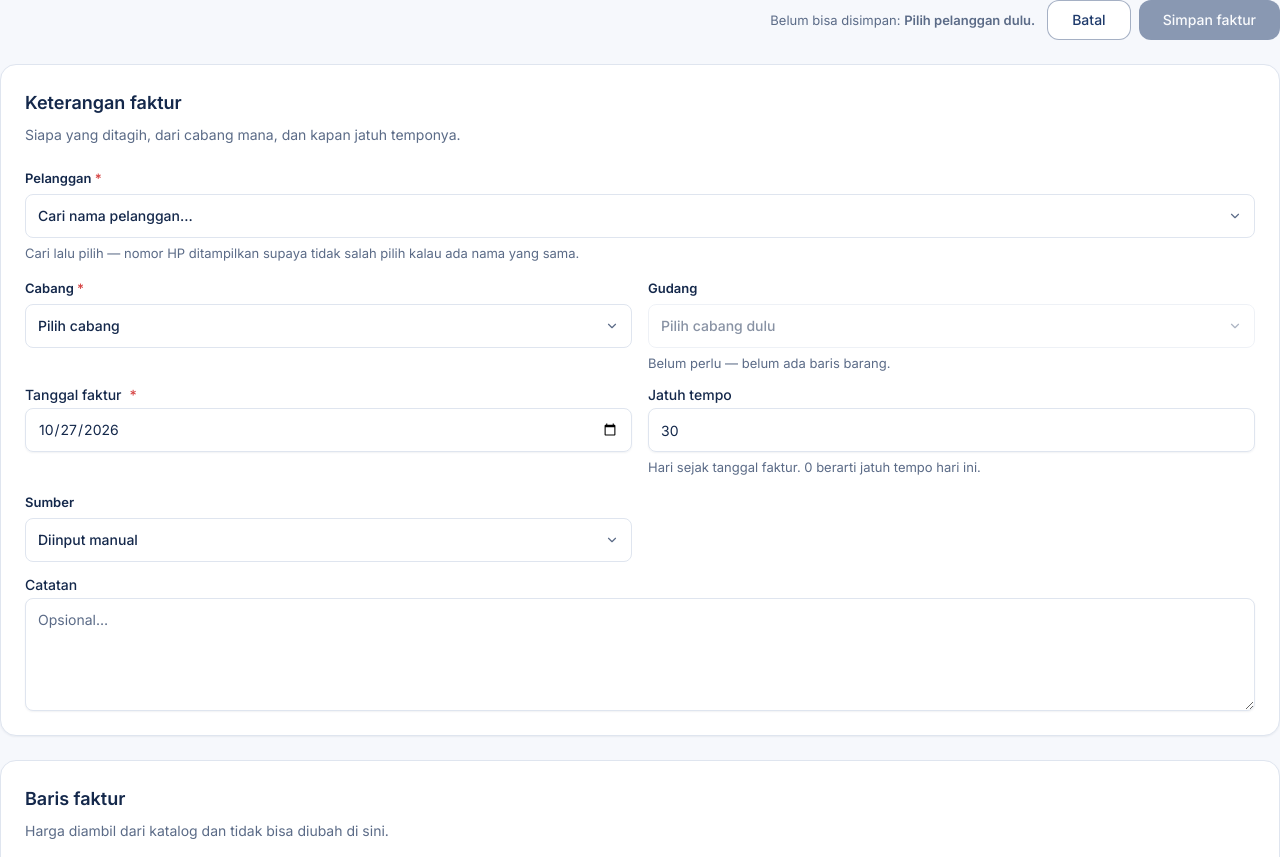
Test: scanning a barcode › a batch label › adds the lot's product when the invoice's warehouse holds it
Click the button "Pilih cabang" at coordinates (79, 325), box left=25, top=304, right=632, bottom=348
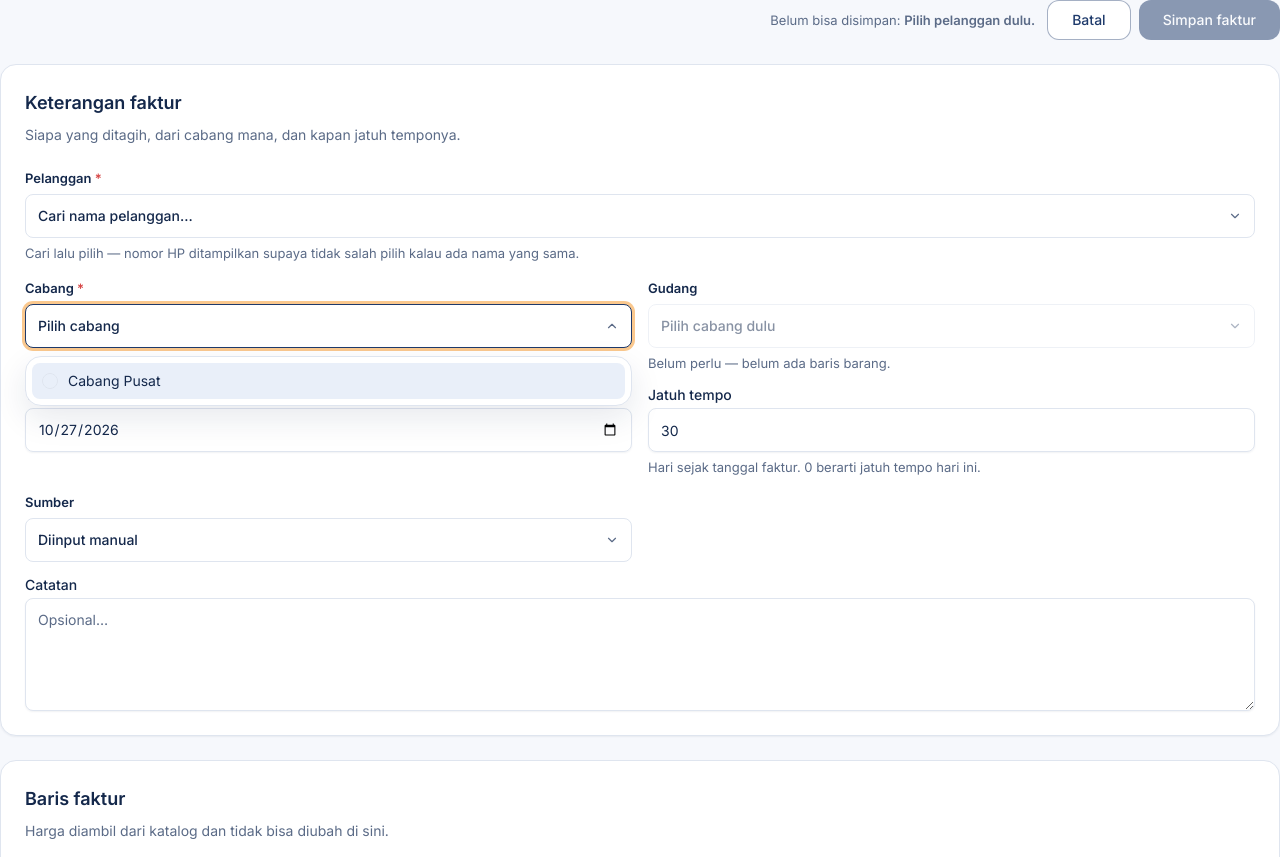
Click the option "Cabang Pusat" at coordinates (114, 380), box left=32, top=363, right=625, bottom=399
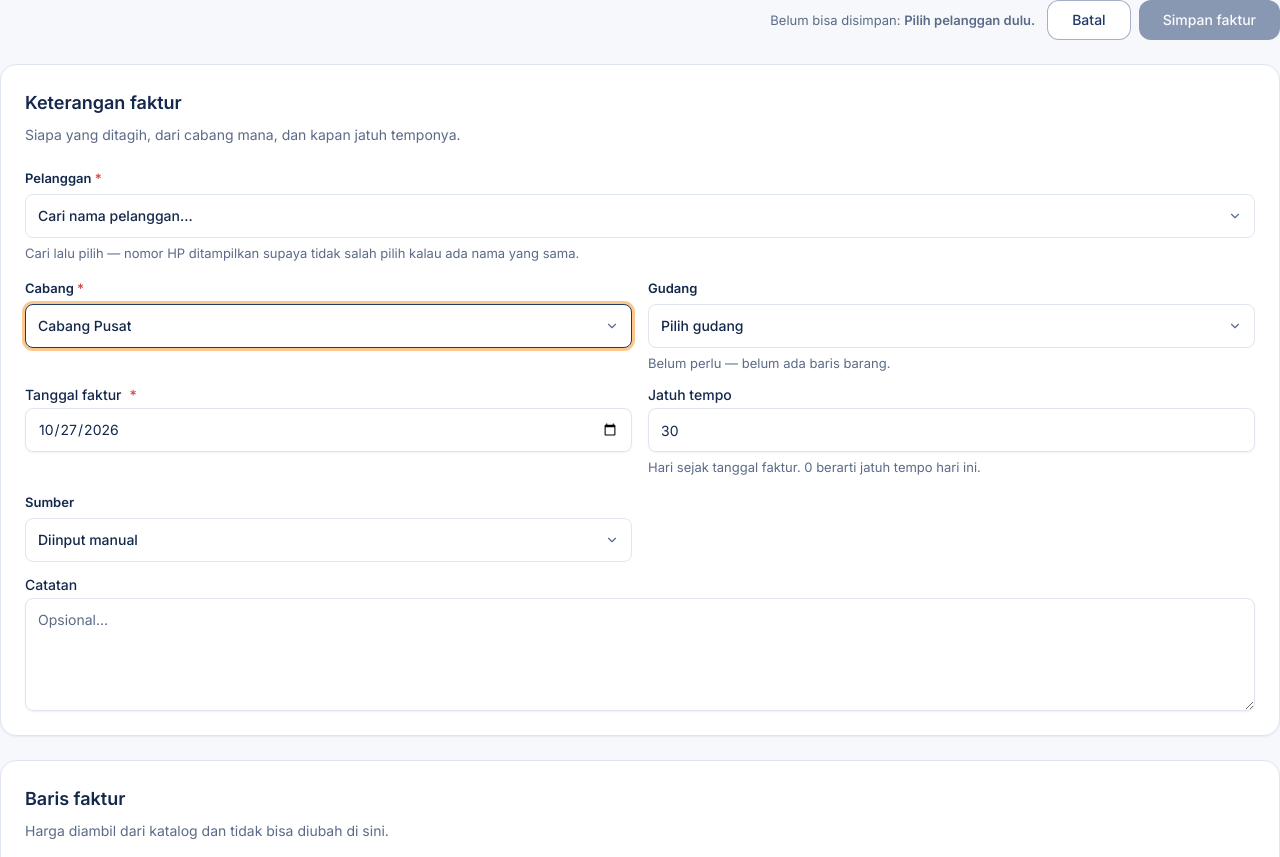
Click the button "Pilih gudang" at coordinates (702, 325), box left=648, top=304, right=1255, bottom=348
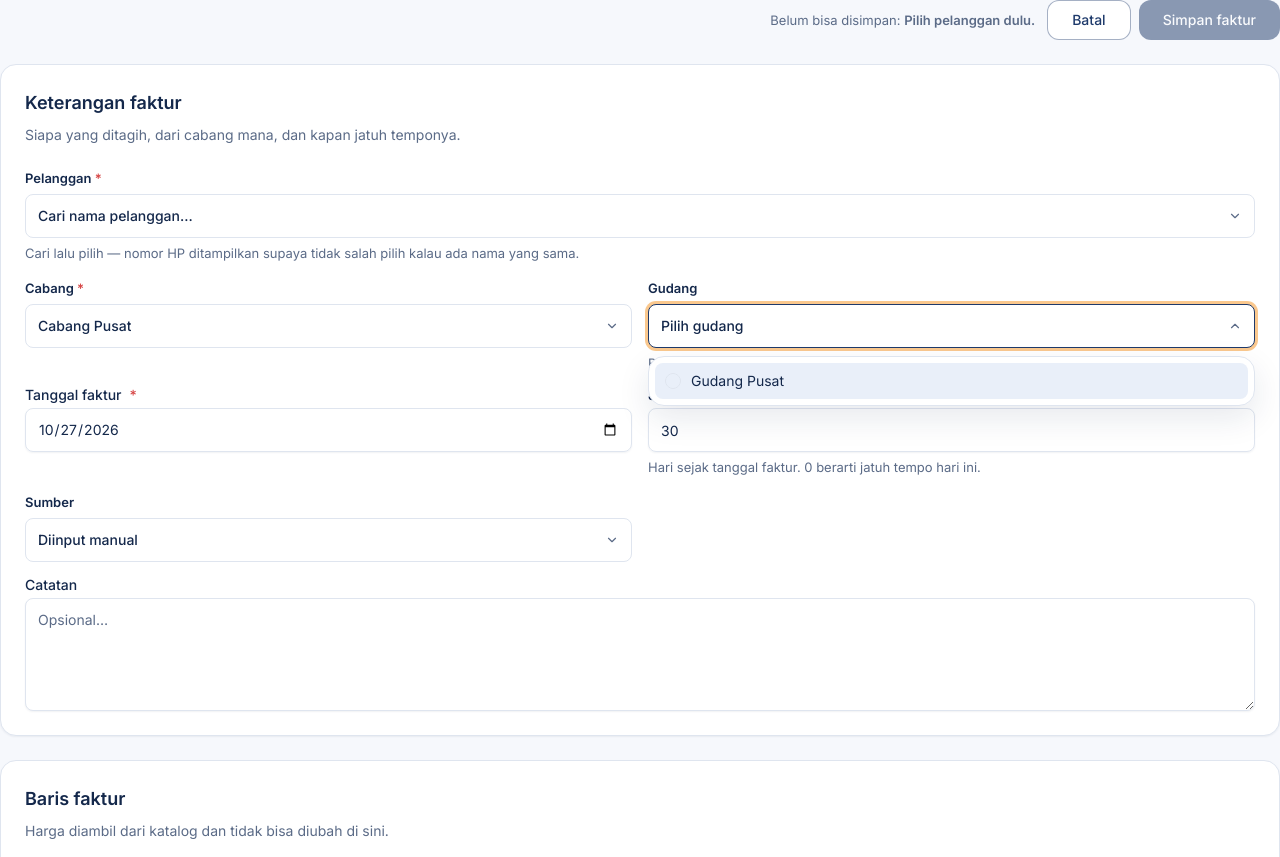
Click the option "Gudang Pusat" at coordinates (738, 380), box left=655, top=363, right=1248, bottom=399
(page scrolled)
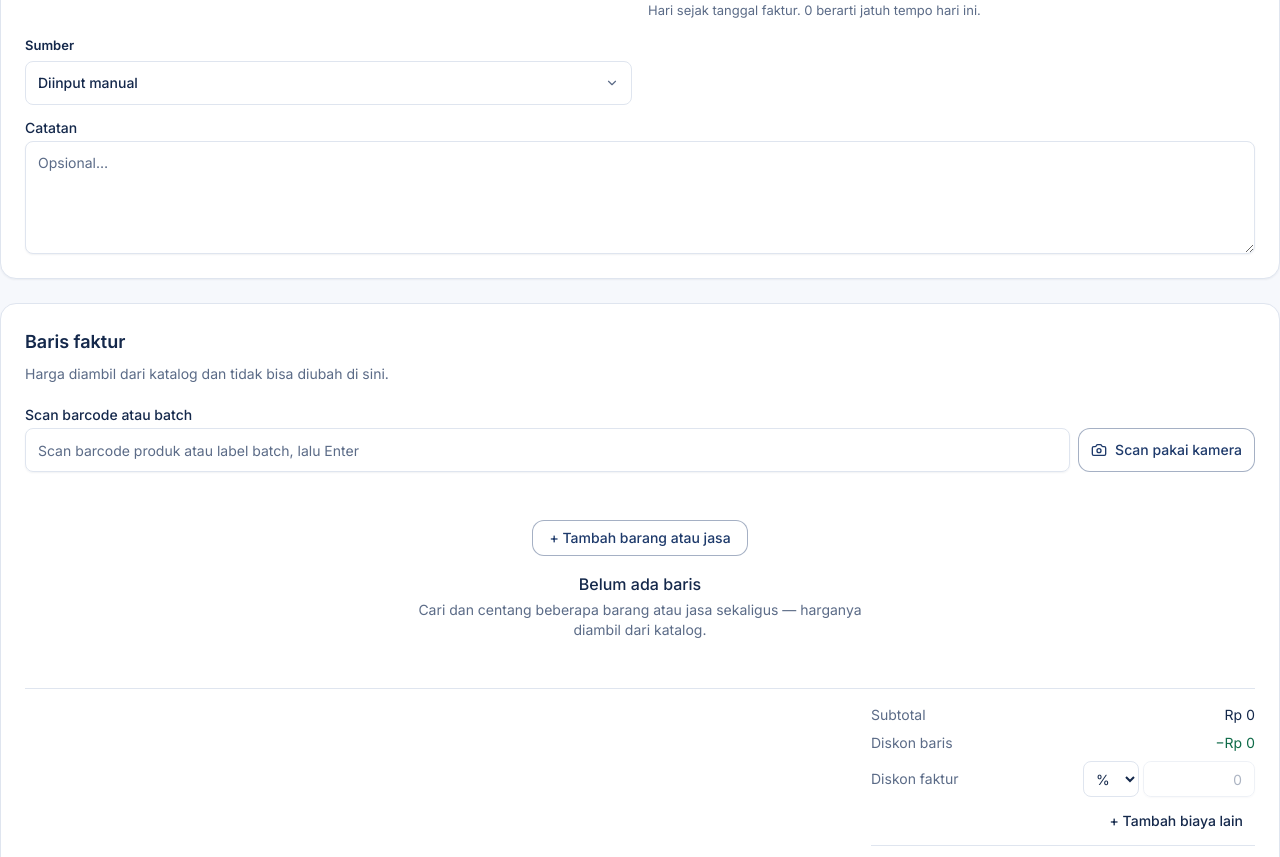
Type "KLG-B26-0001" into the field labelled "Scan barcode atau batch" at coordinates (548, 450), box left=25, top=428, right=1070, bottom=472
Then press Enter
(page scrolled)
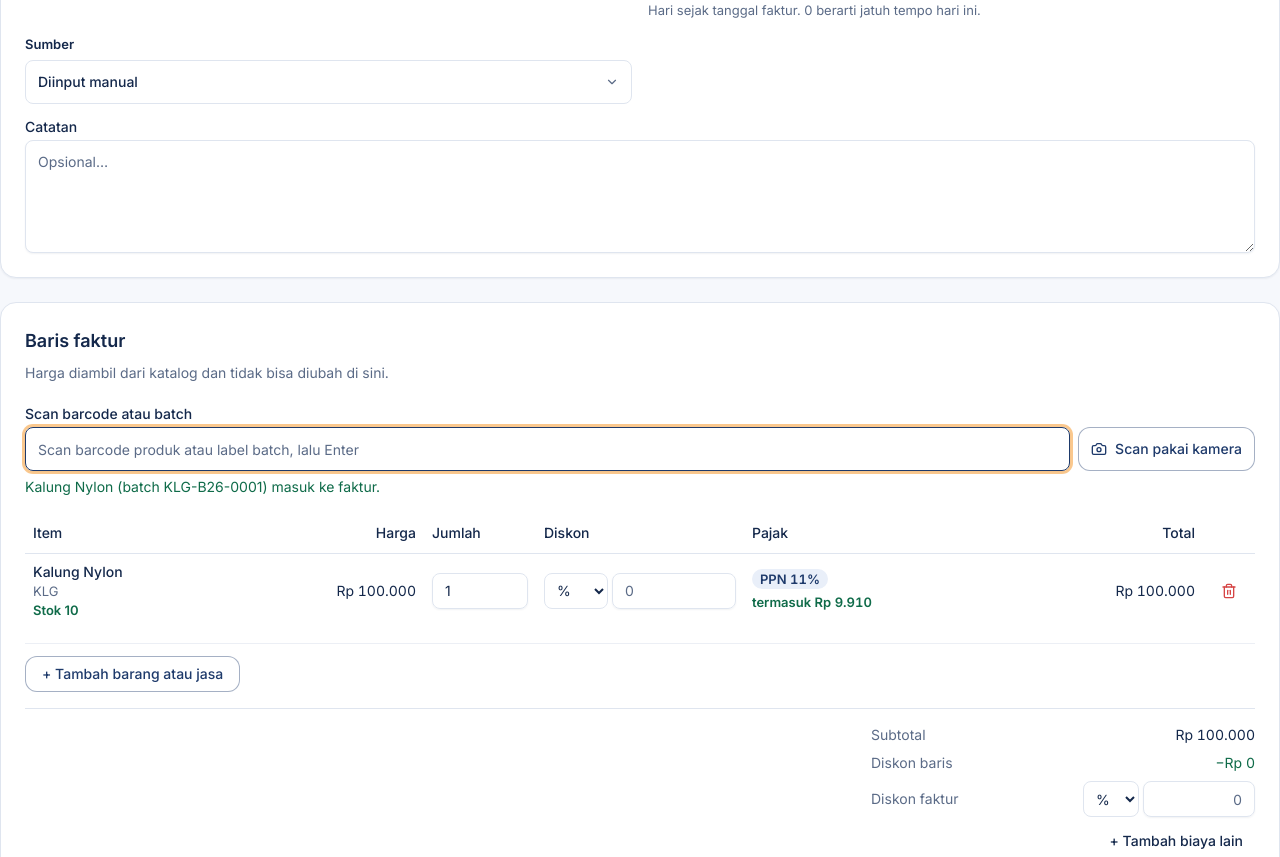
Expected: the button named "Hapus Kalung Nylon" is shown, left=1211, top=575, right=1247, bottom=607
Expected: the text "Kalung Nylon (batch KLG-B26-0001) masuk ke faktur." is shown, left=25, top=478, right=380, bottom=495
